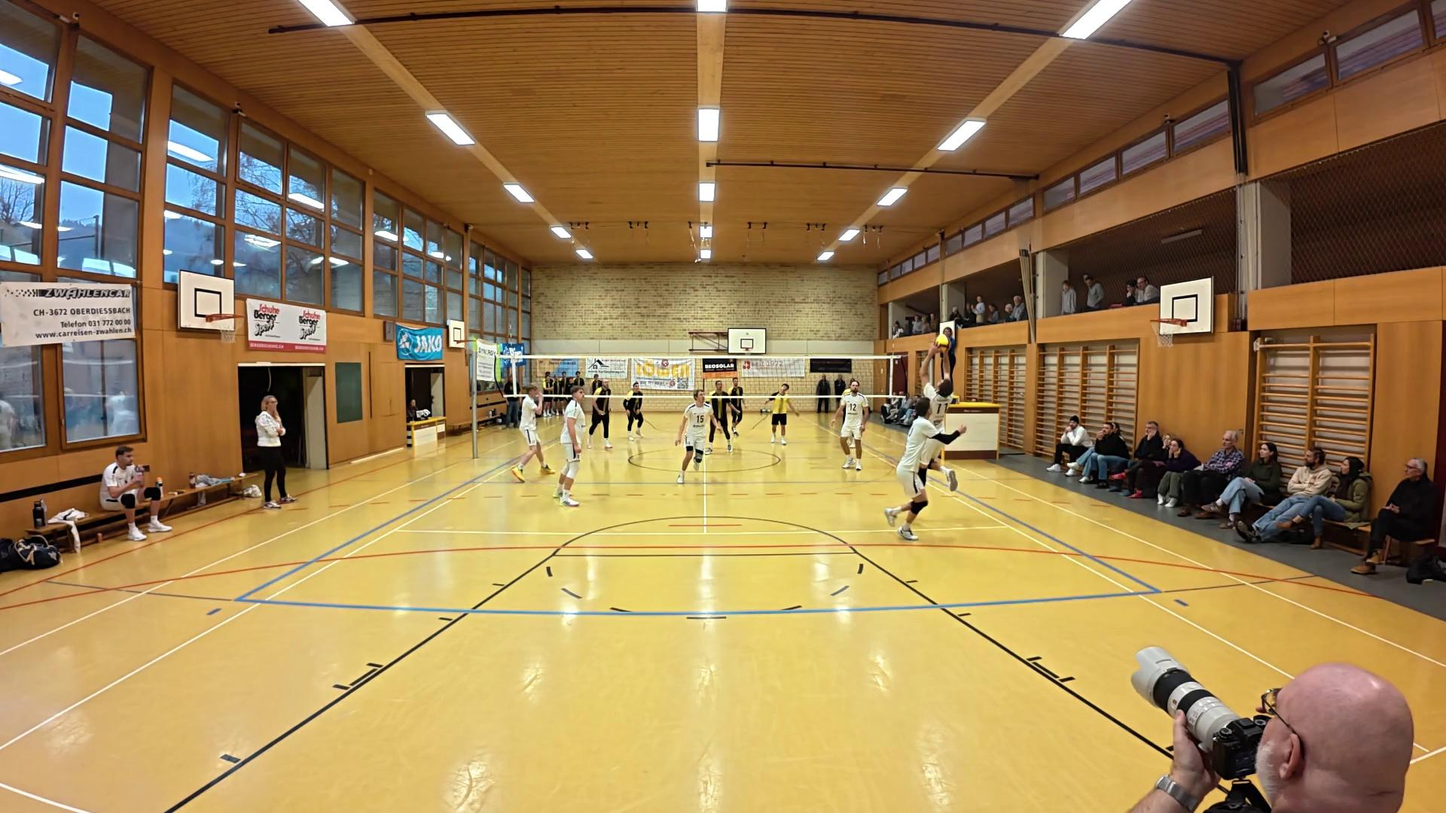difesa: (907, 342, 957, 531)
